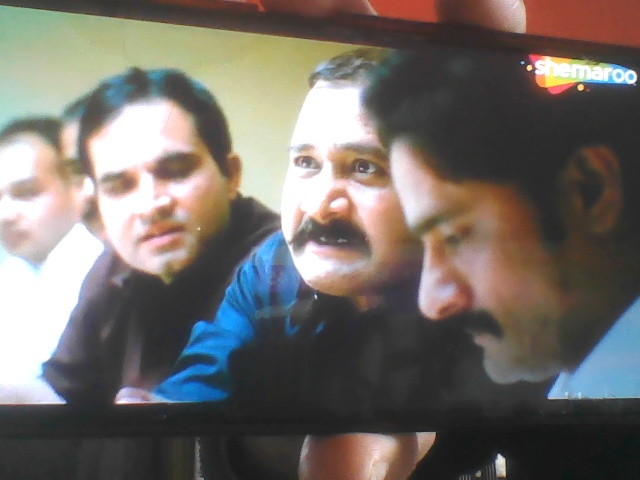fake: (393, 60, 618, 379), (81, 65, 238, 287)
